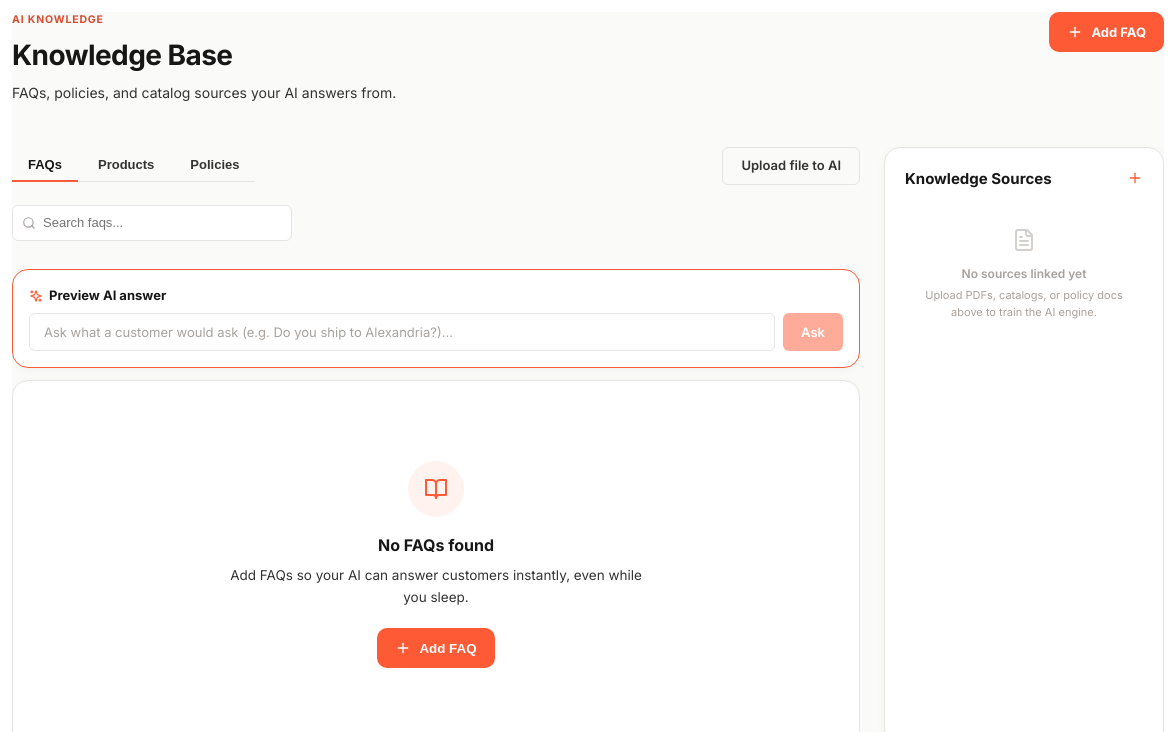
Scenario: Knowledge page › asks knowledge base successfully and displays AI answer with source badge
Expected: the button "Ask" is disabled, [783,313,843,351]
Replace the text in the field with placeholder "Ask what a customer would ask" with "Do you deliver to Alexandria?" at (402, 332), box [29,313,775,351]
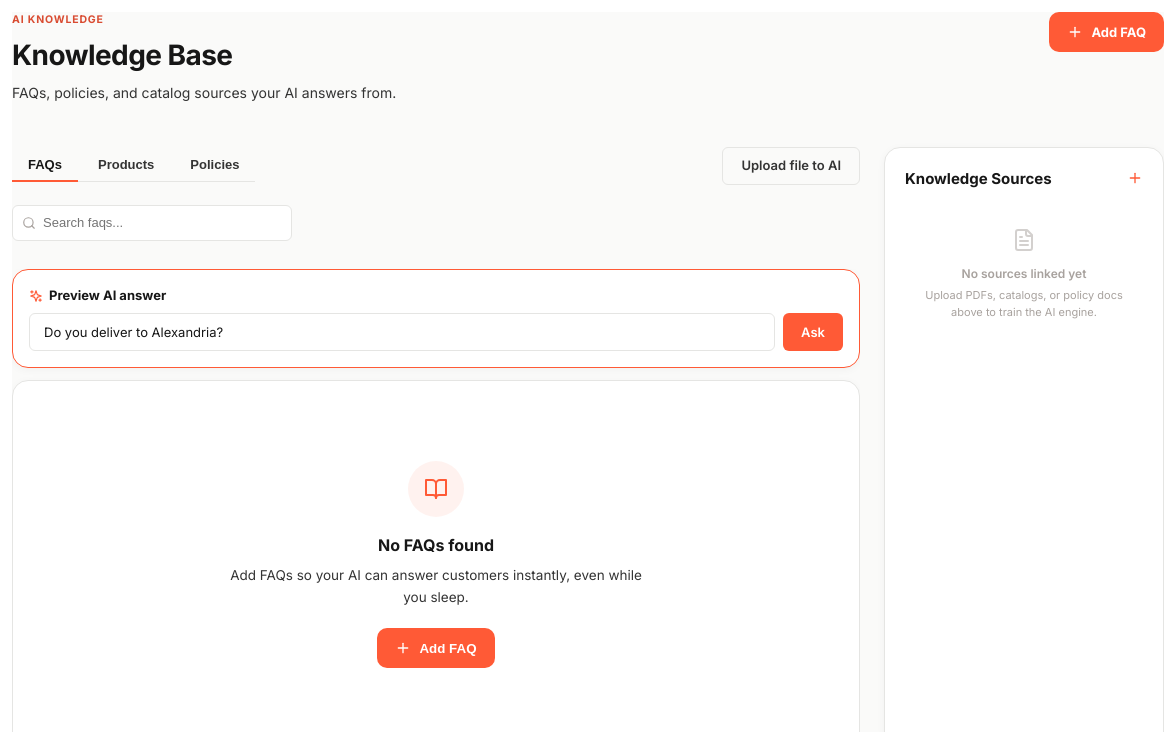
Expected: the button "Ask" is enabled
Click the button "Ask" at (813, 332), box [783,313,843,351]
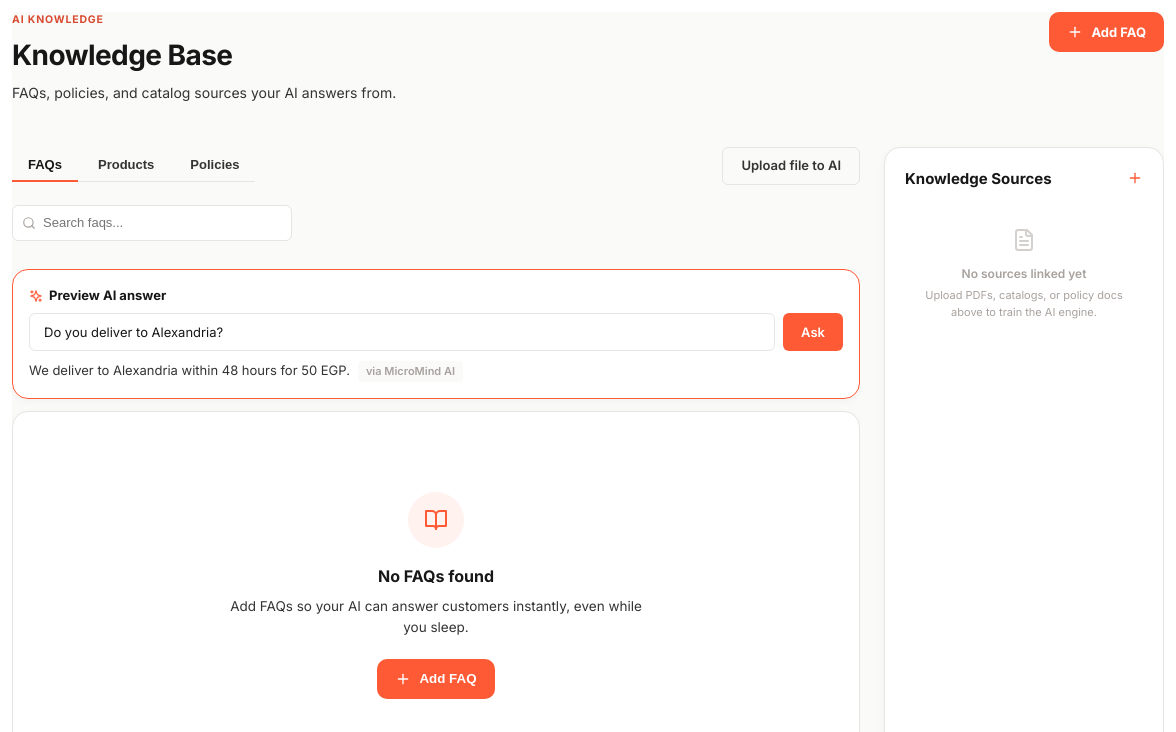
Expected: the text "We deliver to Alexandria within 48 hours for 50 EGP." is shown, [29,362,350,378]
Expected: the text "via MicroMind AI" is shown, [358,361,463,382]
